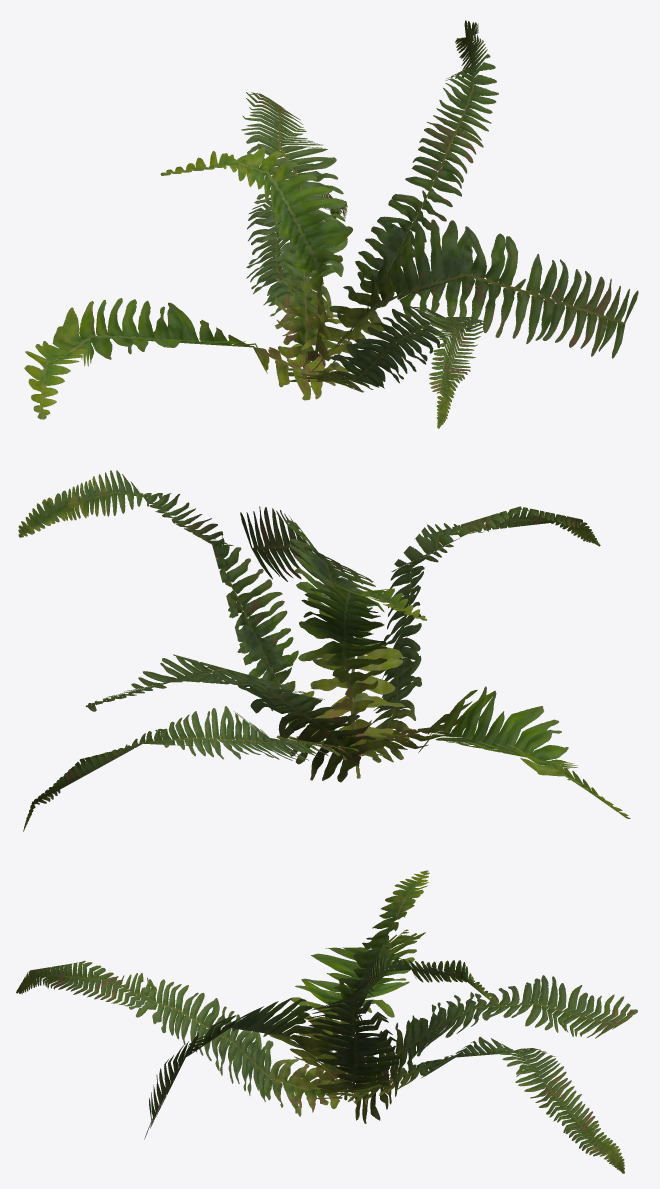
Rendered from fern.glb.
3 renders of one model, top to bottom at view 1: azimuth 30°, elevation 25°; view 2: azimuth 150°, elevation 25°; view 3: azimuth 270°, elevation 25°, orthographic. The views are drawn at different scales.
Parts seen in each view (by area): view 1: fern_02_a; view 2: fern_02_a; view 3: fern_02_a.
Boxes of the visible parts, box(x1,y1,x2,y2) form: fern_02_a: box(24, 20, 638, 428); fern_02_a: box(18, 470, 630, 831); fern_02_a: box(16, 870, 637, 1173).
Bounding box in the file's own units: 0.5519 × 0.2867 × 0.6134.
1 material, 1 textured.
